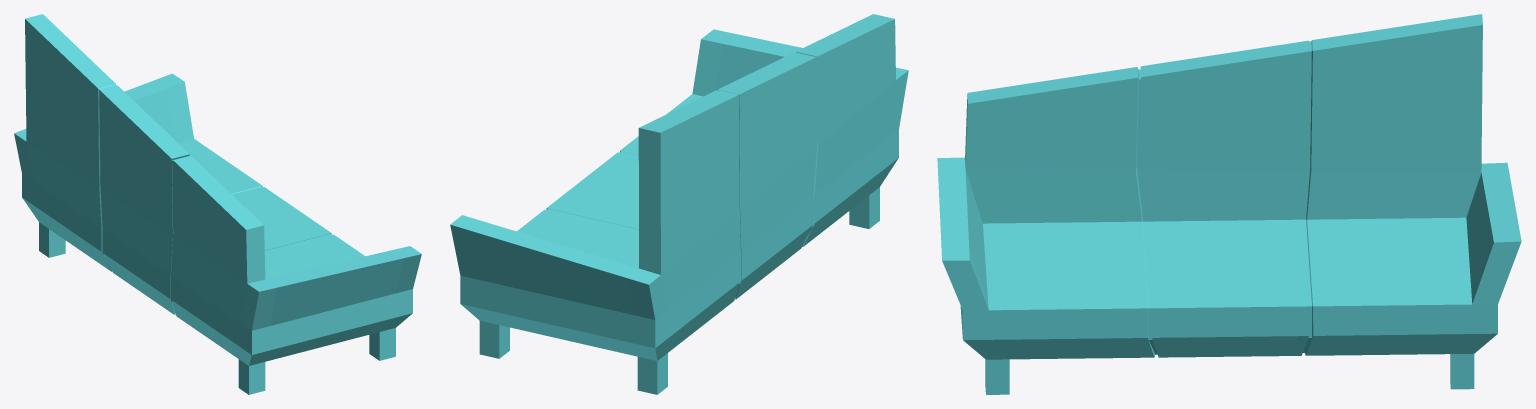
File: CanapeCartoon.fbx
3 views of the same model, side by side, from view 1: azimuth 30°, elevation 25°; view 2: azimuth 150°, elevation 25°; view 3: azimuth 270°, elevation 25° (orthographic). The views are drawn at different scales.
Visible parts, largest first — view 1: canap; view 2: canap; view 3: canap.
Boxes of the visible parts, x1,y1,x2,y2 form: canap: [14, 14, 421, 394]; canap: [450, 14, 908, 394]; canap: [937, 14, 1521, 394].
Bounding box in the file's own units: 67.33 × 84.02 × 158.
